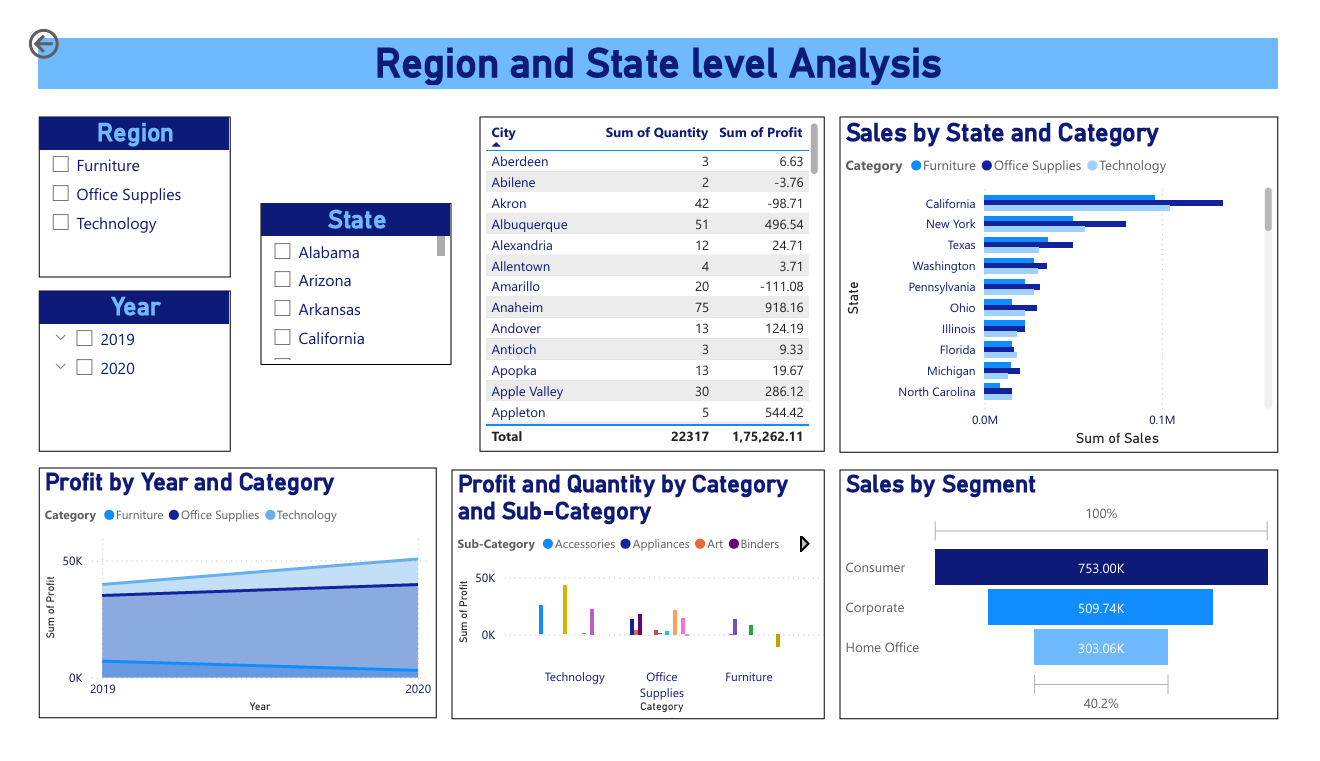

This screenshot's page, from the dashboard's own definition file:
{"tool":"powerbi","page":{"name":"Region and Sales","canvas":[1280,720],"ordinal":1},"visuals":[{"type":"textbox","title":"Region and State level Analysis","box":[15,15,1246.2,52.5],"z":0},{"type":"slicer","title":"Region","fields":{"Values":["Sheet1.Category"]},"box":[15,92.5,192.5,162.5],"z":1000},{"type":"slicer","title":"State","fields":{"Values":["Sheet1.State"]},"box":[237.5,180,192.5,162.5],"z":2000},{"type":"slicer","title":"Year","fields":{"Values":["Sheet1.Order Date.Variation.Date Hierarchy.Year","Sheet1.Order Date.Variation.Date Hierarchy.Quarter"]},"box":[15,267.5,192.5,162.5],"z":3000},{"type":"tableEx","fields":{"Values":["Sheet1.City","Sum(Sheet1.Quantity)","Sum(Sheet1.Profit)"]},"box":[457.5,92.5,347.5,337.5],"z":4000},{"type":"actionButton","box":[0,0,100,40],"z":5000},{"type":"clusteredBarChart","title":"Sales by State and Category","fields":{"Category":["Sheet1.State"],"Series":["Sheet1.Category"],"Y":["Sum(Sheet1.Sales)"]},"box":[820,92.5,441.2,338.8],"z":6000},{"type":"areaChart","title":"Profit by Year and Category","fields":{"Series":["Sheet1.Category"],"Category":["Sheet1.Order Date.Variation.Date Hierarchy.Year","Sheet1.Order Date.Variation.Date Hierarchy.Quarter"],"Y":["Sum(Sheet1.Profit)"]},"box":[15,446.2,400,251.2],"z":7000},{"type":"lineClusteredColumnComboChart","title":"Profit and Quantity by Category and Sub-Category","fields":{"Category":["Sheet1.Category"],"Series":["Sheet1.Sub-Category"],"Y":["Sum(Sheet1.Profit)"]},"box":[430,447.5,375,251.2],"z":8000},{"type":"funnel","title":"Sales by Segment","fields":{"Category":["Sheet1.Segment"],"Y":["Sum(Sheet1.Sales)"]},"box":[820,448,441,251],"z":9000}]}

Visuals, with their boxes in screenshot pixels (x1, y1, x2, y2), scaled from the page's 1280x720 canvas onto the 1320x761 screenshot:
"Region and State level Analysis" textbox: box=[15, 16, 1301, 71]
"Region" slicer: box=[15, 98, 214, 270]
"State" slicer: box=[245, 190, 443, 362]
"Year" slicer: box=[15, 283, 214, 454]
tableEx - Sheet1.City x Sum(Sheet1.Quantity): box=[472, 98, 830, 454]
actionButton: box=[0, 0, 103, 42]
"Sales by State and Category" clusteredBarChart: box=[846, 98, 1301, 456]
"Profit by Year and Category" areaChart: box=[15, 472, 428, 737]
"Profit and Quantity by Category and Sub-Category" lineClusteredColumnComboChart: box=[443, 473, 830, 738]
"Sales by Segment" funnel: box=[846, 474, 1300, 739]
